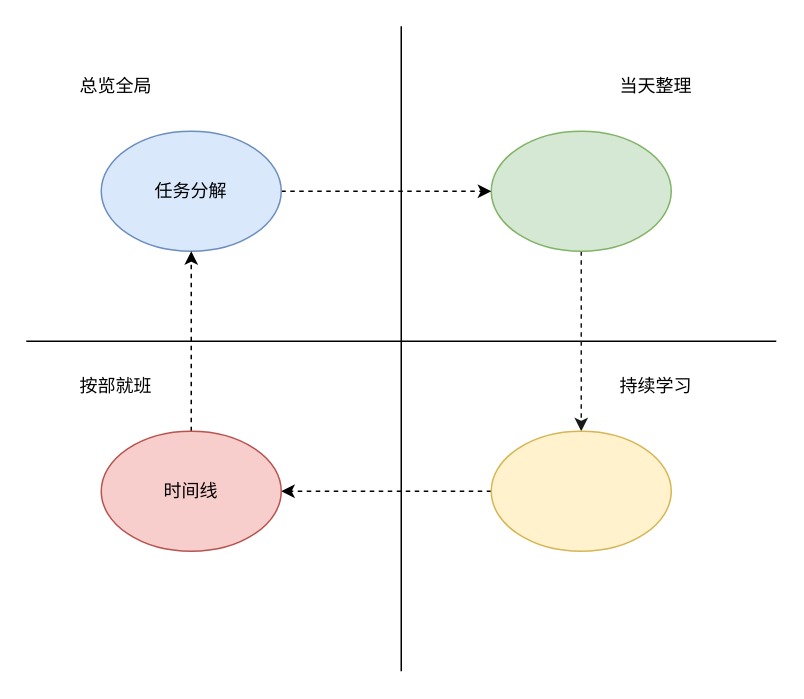
This 804x699 diagram has some shape labels left out. Each missing label, with the centre of its shape:
review: [580,190]
下一步: [580,490]
